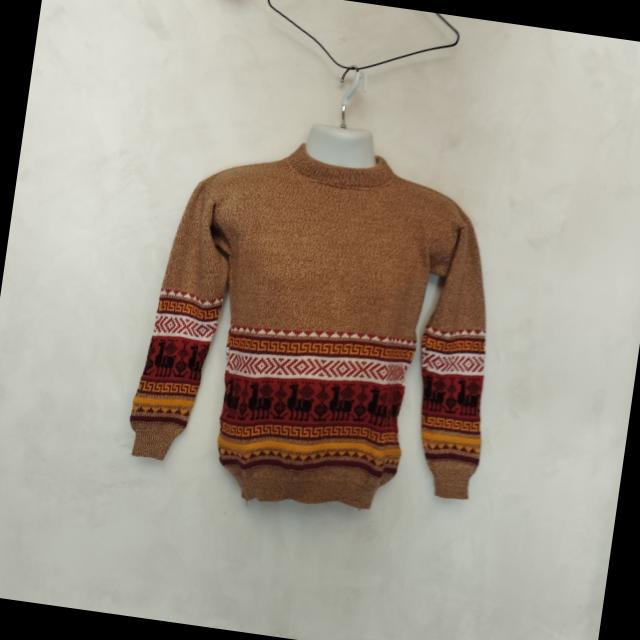Chompa: (120, 106, 522, 535)
